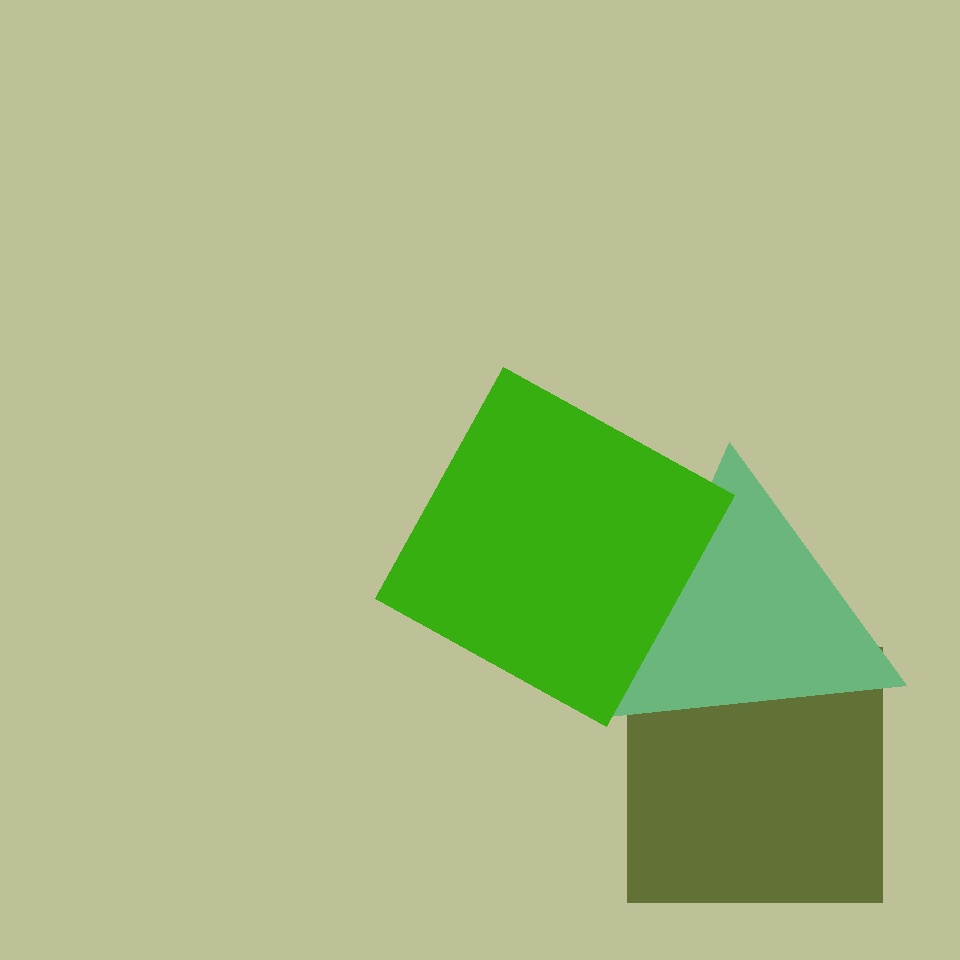circle: (599, 478, 897, 752)
square: (376, 368, 734, 726), (628, 648, 882, 902)
